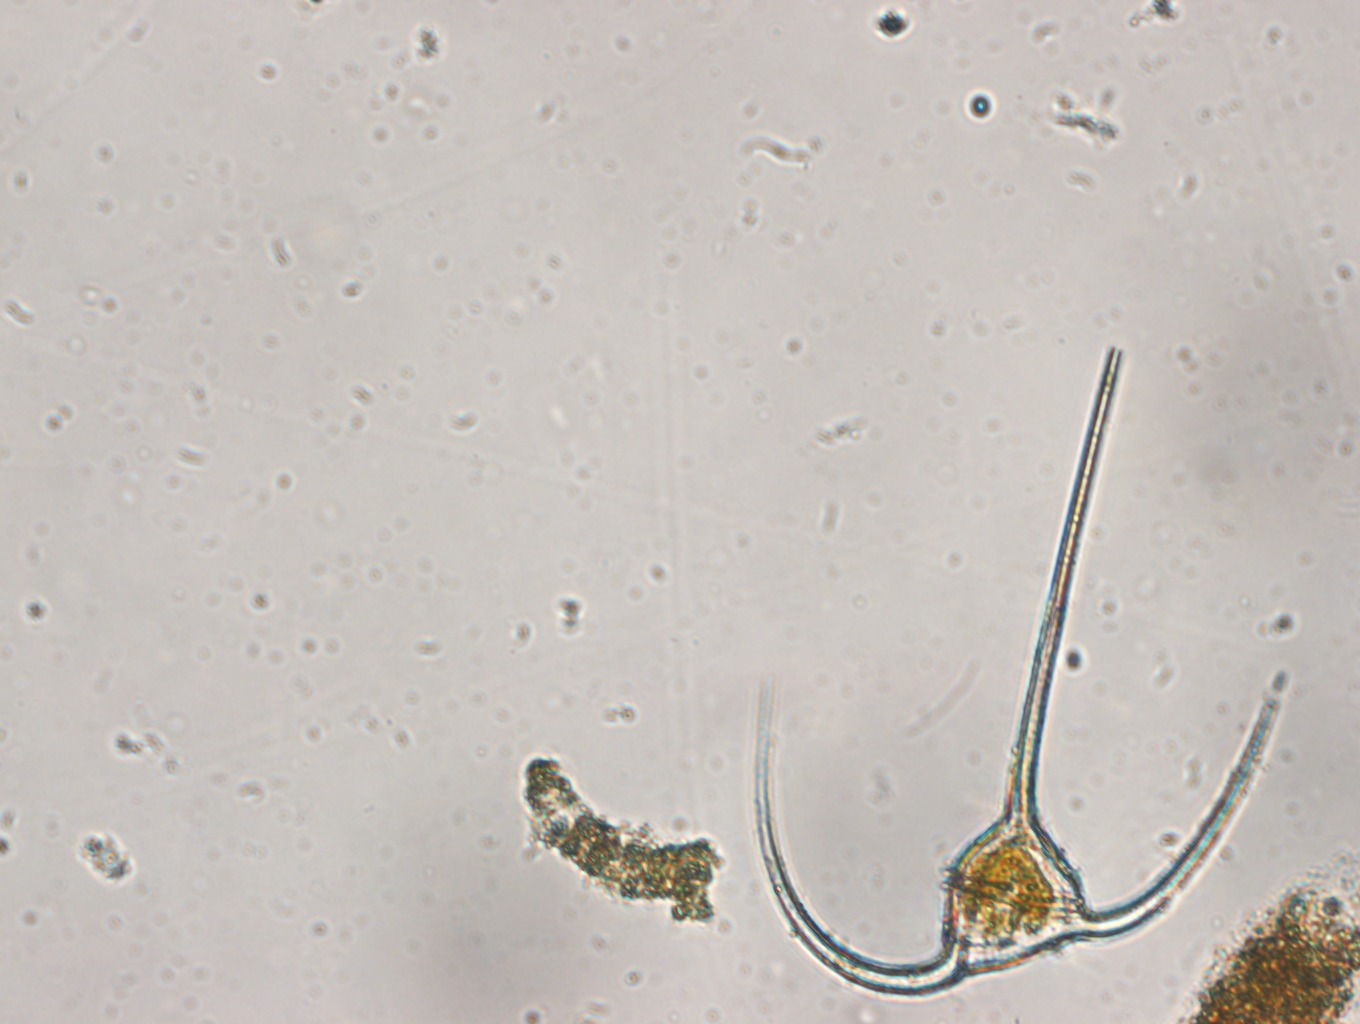ceratium trichoceros: (749, 340, 1289, 999)
